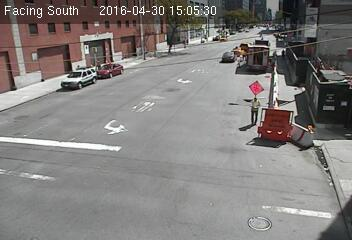neg: (27, 36, 63, 84), (93, 58, 105, 74), (137, 34, 148, 49), (165, 37, 175, 51)
pos: (244, 96, 267, 127), (279, 49, 289, 61)
